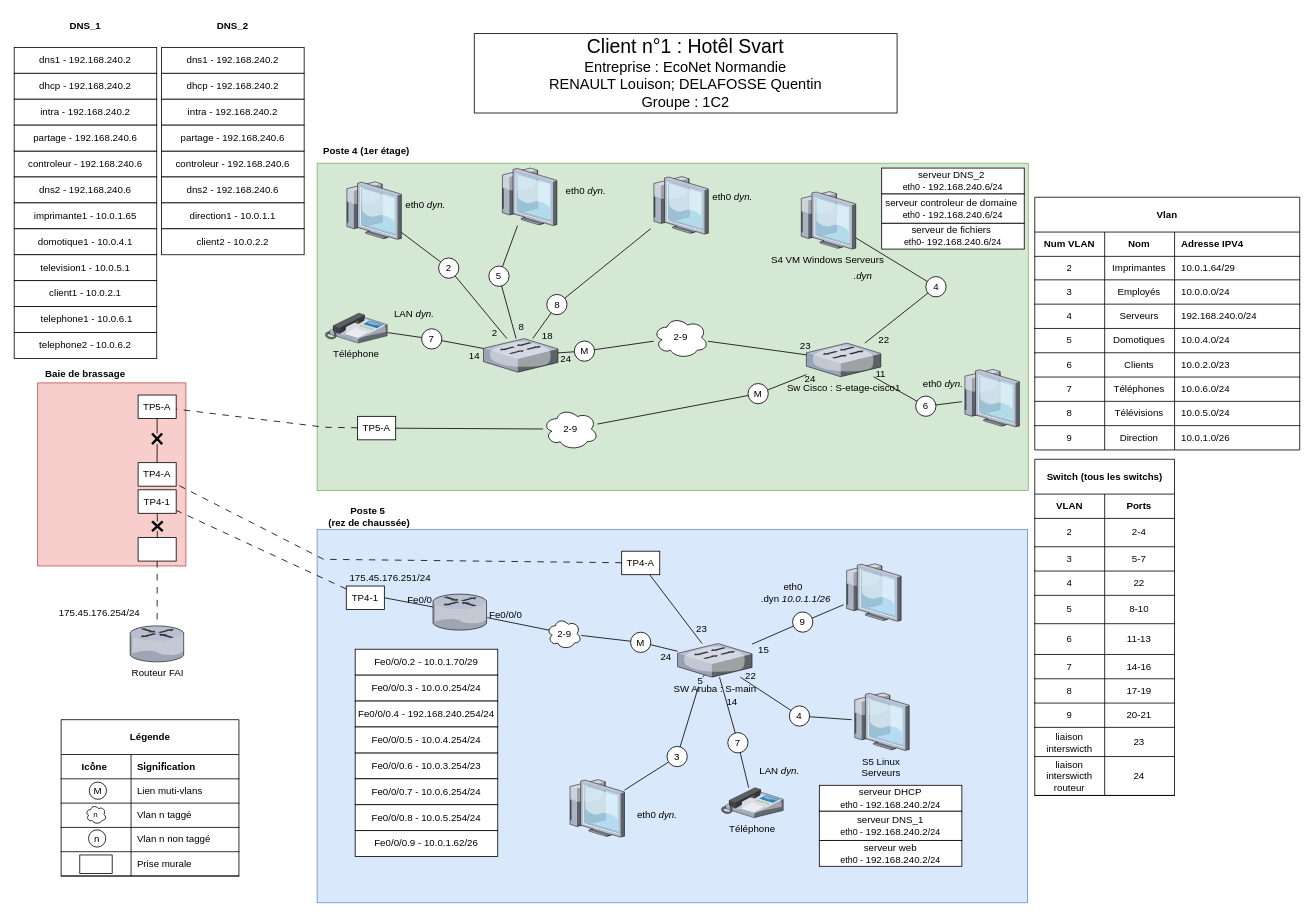
The diagram is 1315 pixels wide and 917 high, and some of its shapes have lost their labels. The shapes that lost their labels are listed below. From the top down, each one's centre as x and y in pixels, then its label:
the point at 372,210: G4-1 Linux Imprimante Client DNS_2
the point at 527,196: G4-2 Linux Domotique Client DNS_2
the point at 679,205: G4-3 Linux Télévision Client DNS_2
the point at 520,355: SW Aruba : S-etage-aruba1
the point at 990,397: D4 Windows Clients Client DNS_2
the point at 156,549: FAI
the point at 460,612: R Cisco 2800 : R-main
the point at 872,592: D5 Windows Direction Client DNS_1
the point at 595,808: G5-1 Linux Employés Client DNS_1
the point at 95,864: TPn-A
